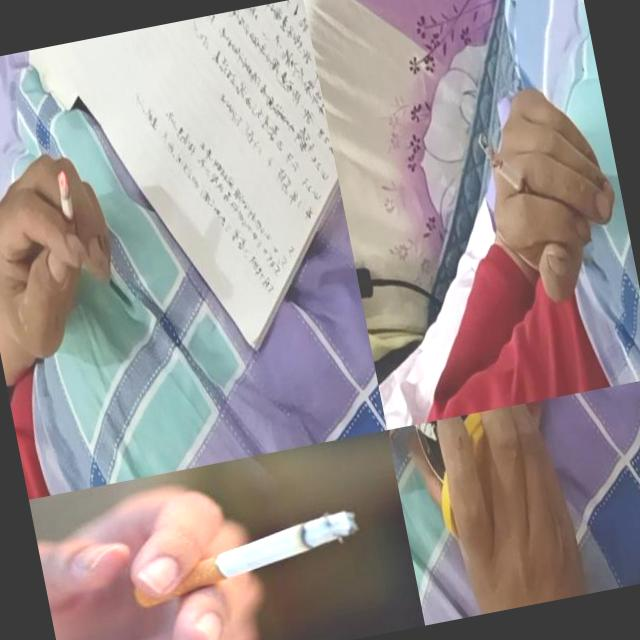smoke: (125, 507, 368, 612), (476, 126, 539, 209), (53, 170, 83, 254), (388, 421, 437, 450)
